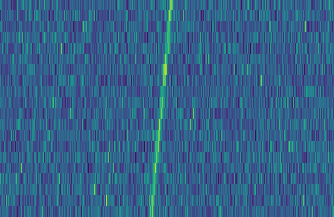signal: (146, 0, 175, 217)
